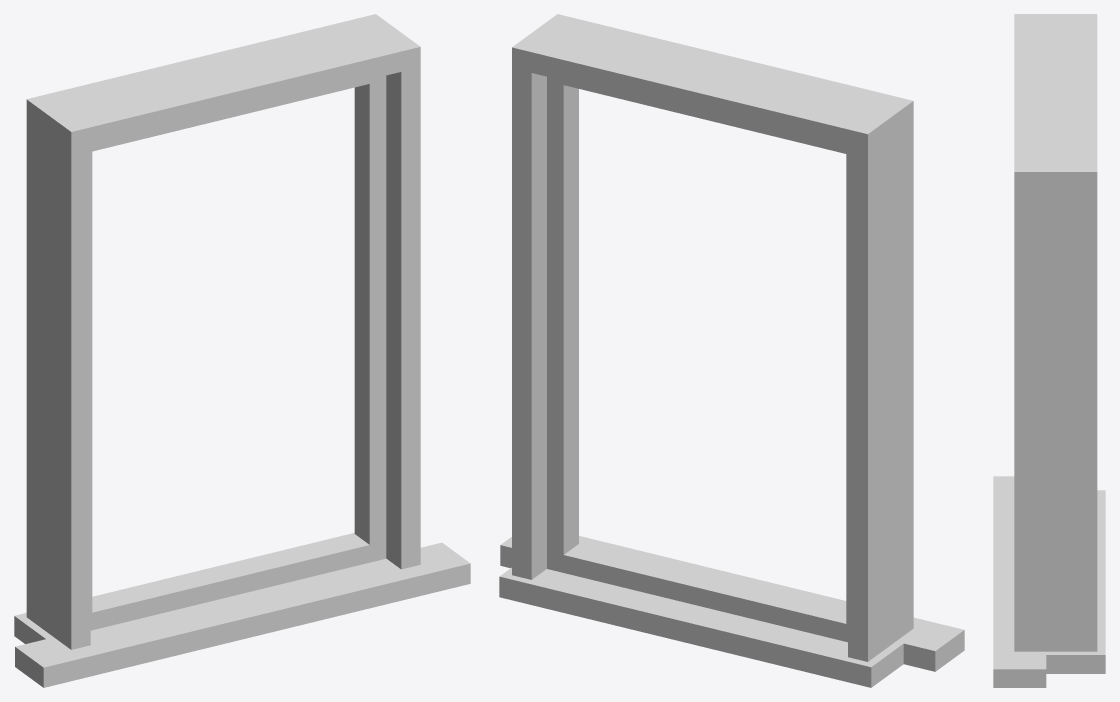
The model's file is Window5_01.fbx.
3 renders of one model, left to right at view 1: azimuth 30°, elevation 25°; view 2: azimuth 150°, elevation 25°; view 3: azimuth 270°, elevation 25°, orthographic. The views are drawn at different scales.
Visible parts, largest first — view 1: Window5_01; view 2: Window5_01; view 3: Window5_01.
Part boxes in pixels (bbox=[...]): Window5_01: bbox=[14, 14, 470, 687]; Window5_01: bbox=[499, 14, 964, 687]; Window5_01: bbox=[993, 14, 1105, 687].
Bounding box in the file's own units: 1.1 × 1.33 × 0.27.
